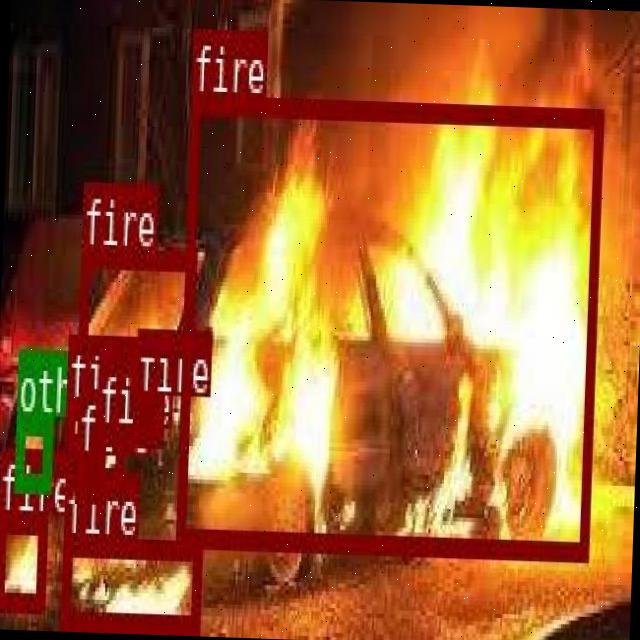fire: (174, 93, 602, 554), (59, 532, 200, 628), (78, 246, 194, 354), (0, 512, 45, 606), (95, 423, 124, 481), (132, 391, 162, 442), (64, 399, 86, 447), (74, 452, 95, 499)
